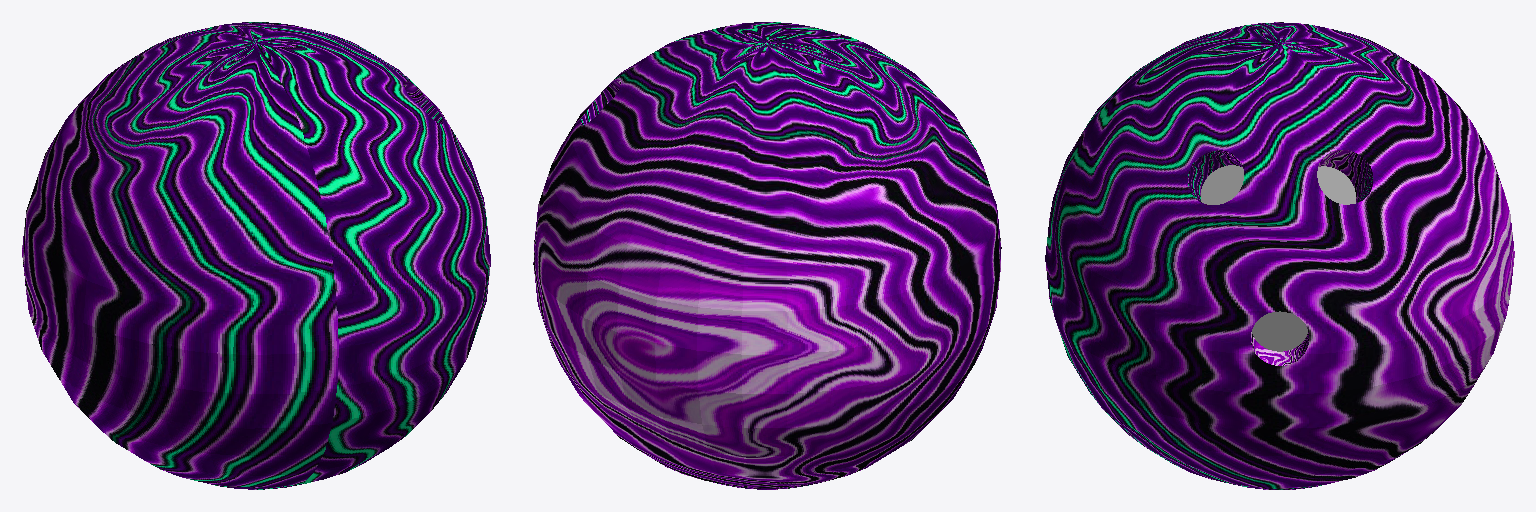
3 views of the same model, side by side, from view 1: azimuth 30°, elevation 25°; view 2: azimuth 150°, elevation 25°; view 3: azimuth 270°, elevation 25° (orthographic).
Visible parts, largest first — view 1: Sphere; view 2: Sphere; view 3: Sphere.
Boxes of the visible parts, box(x1,y1,x2,y2) form: Sphere: box(22, 22, 490, 489); Sphere: box(533, 22, 1001, 489); Sphere: box(1045, 22, 1514, 489).
Bounding box in the file's own units: 1.99 × 2 × 2.
2 materials, 1 textured.